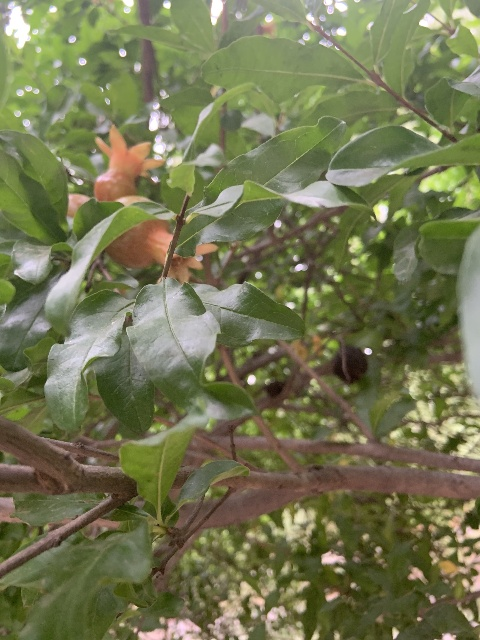early-fruit: (104, 193, 218, 285), (92, 126, 166, 202)
